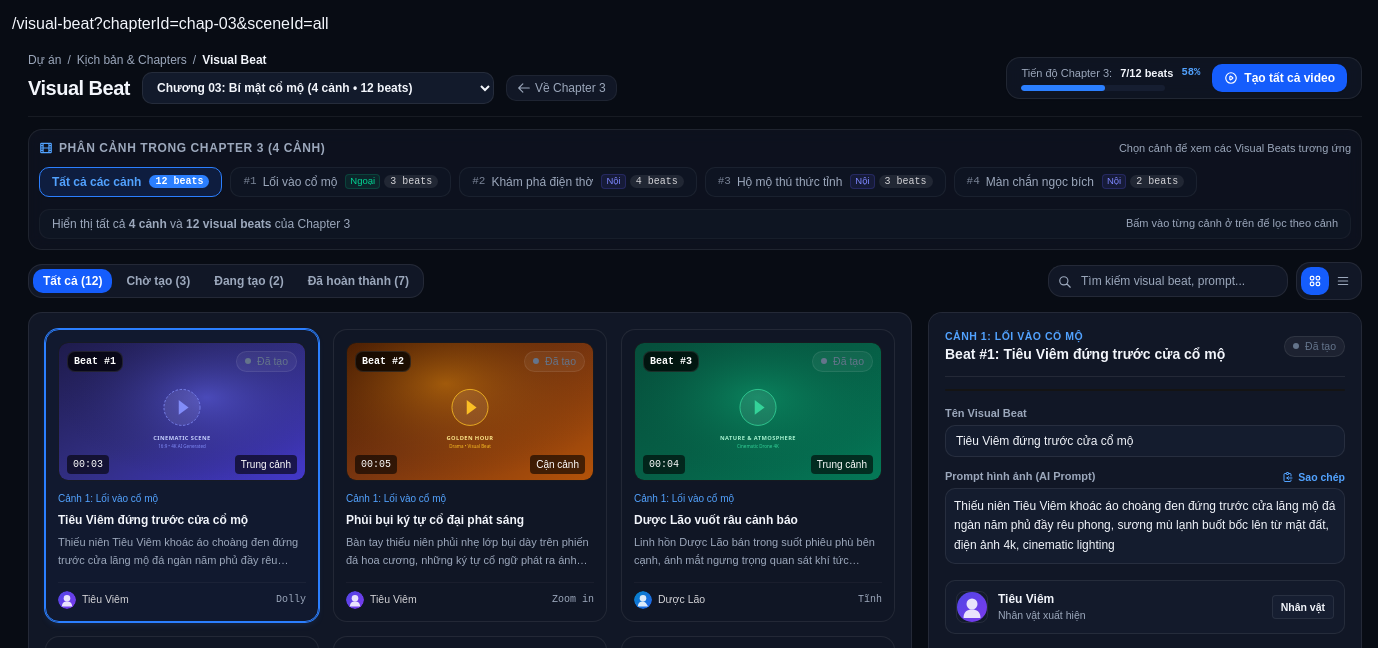
Test case: VisualBeatPage - Chapter > Scene > Visual Beat Hierarchy › filters beats by status tab
The width and height of the screenshot is (1378, 648).
Note: Click "Đang tạo" tab
Click the button "Đang tạo (2)" at (249, 280), box [204,268,294,292]
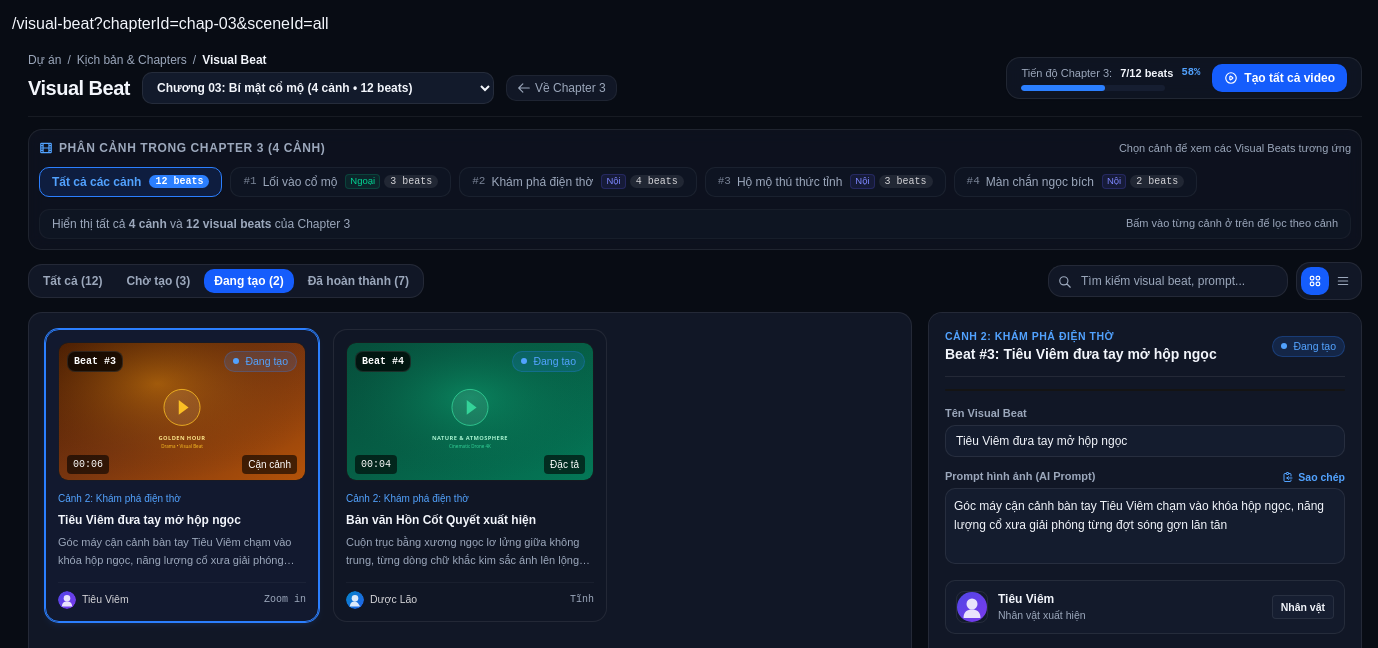
Expected: the heading "Tiêu Viêm đưa tay mở hộp ngọc" is shown, [58,513,241,527]
Expected: the heading "Bản văn Hồn Cốt Quyết xuất hiện" is shown, [346,513,536,527]
Expected: the heading "Tiêu Viêm đứng trước cửa cổ mộ" is gone
